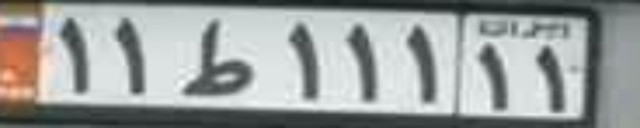1: (342, 23, 378, 99), (113, 18, 149, 93), (402, 23, 435, 101), (60, 18, 93, 94), (287, 22, 318, 98), (530, 44, 563, 112), (476, 42, 508, 109)
taa: (181, 18, 254, 95)
